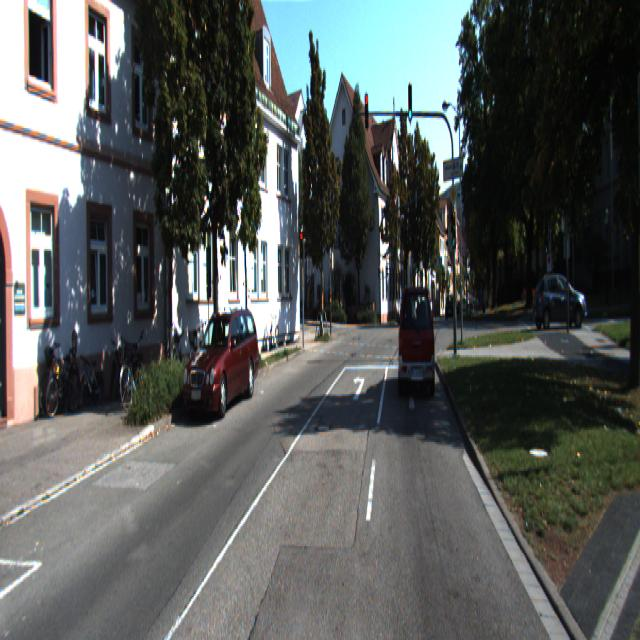Car: (181, 311, 260, 421), (397, 286, 436, 397), (532, 271, 586, 330)
DontCare: (444, 279, 482, 322)
